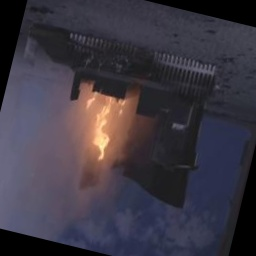fire: (67, 77, 140, 168)
smoke: (0, 128, 108, 249)
